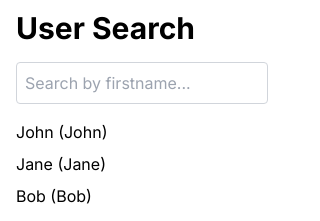
Test case: Search Integration › displays "No users found" when search has no results
Type "xyz" into the field with placeholder "Search by firstname..." at [142, 83], box [16,62,268,104]
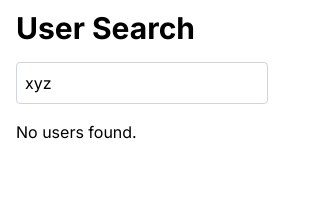
expect the list item "No users found." is shown: met, box [16,122,137,142]
